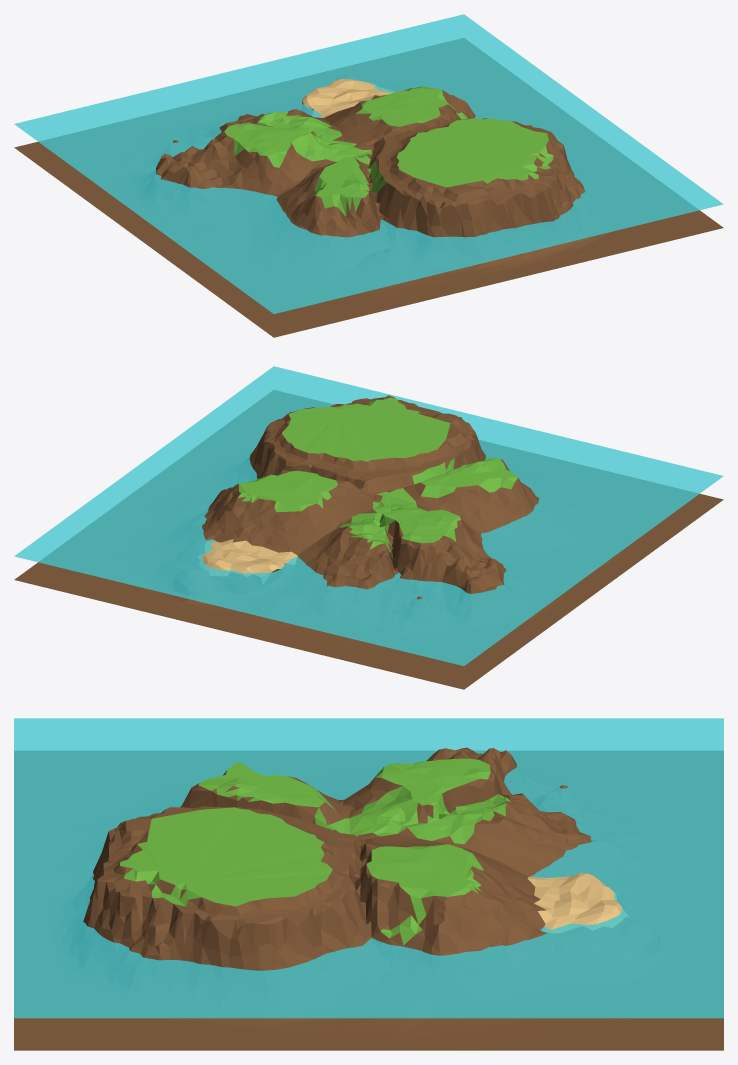
File: Island_00.glb
3 renders of one model, top to bottom at view 1: azimuth 30°, elevation 25°; view 2: azimuth 150°, elevation 25°; view 3: azimuth 270°, elevation 25°, orthographic. The views are drawn at different scales.
Visible parts, largest first — view 1: Landscape, Landscape_water; view 2: Landscape, Landscape_water; view 3: Landscape, Landscape_water.
Part boxes in pixels (x1,y1,x2,y2): Landscape: [14, 38, 723, 337]; Landscape_water: [14, 14, 723, 313]; Landscape: [14, 390, 723, 689]; Landscape_water: [14, 366, 723, 665]; Landscape: [14, 747, 723, 1050]; Landscape_water: [14, 718, 723, 1018].
Size of the model in its own units: 2 by 0.2507 by 2.
